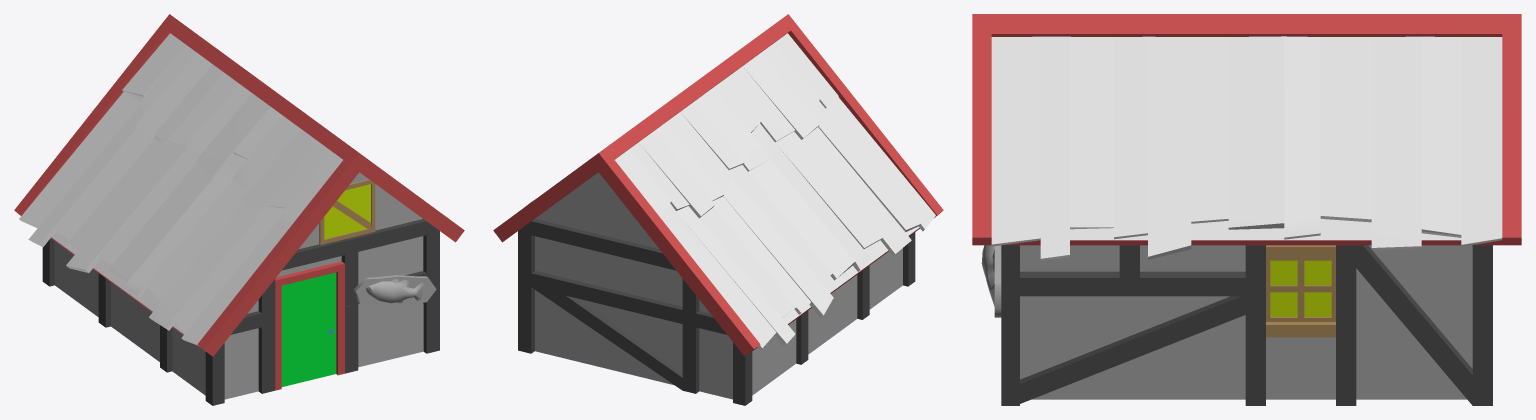
File: Harbor_House_3.fbx
The picture shows the model from 3 angles, left to right: view 1: azimuth 30°, elevation 25°; view 2: azimuth 150°, elevation 25°; view 3: azimuth 270°, elevation 25°; orthographic projection. The views are drawn at different scales.
Parts seen in each view (by area): view 1: Harbor_House_3, Harbor_House_3_Fish; view 2: Harbor_House_3; view 3: Harbor_House_3, Harbor_House_3_Fish.
Part boxes in pixels (x1=…): Harbor_House_3: x1=14, y1=14, x2=464, y2=405; Harbor_House_3_Fish: x1=353, y1=275, x2=436, y2=306; Harbor_House_3: x1=493, y1=14, x2=943, y2=405; Harbor_House_3: x1=972, y1=14, x2=1521, y2=405; Harbor_House_3_Fish: x1=981, y1=245, x2=1001, y2=317.
Size of the model in its own units: 656 by 510 by 773.
